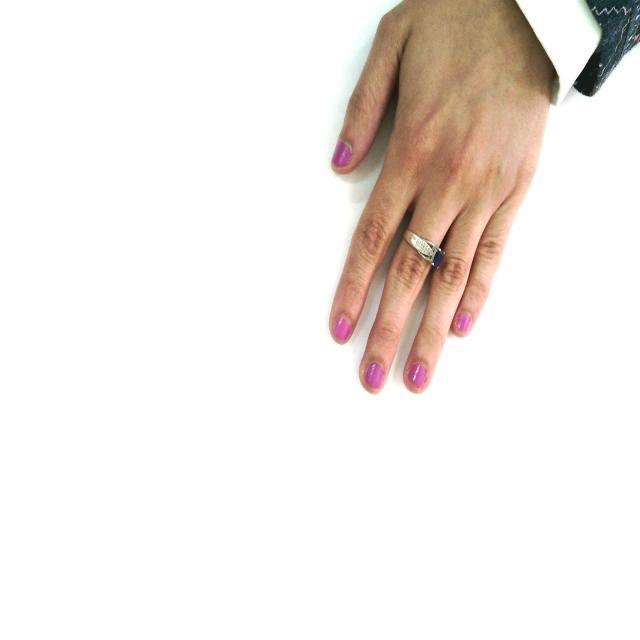Fingernail: (408, 363, 427, 388), (366, 363, 384, 389), (334, 316, 350, 343), (333, 142, 351, 166), (456, 312, 471, 333)
